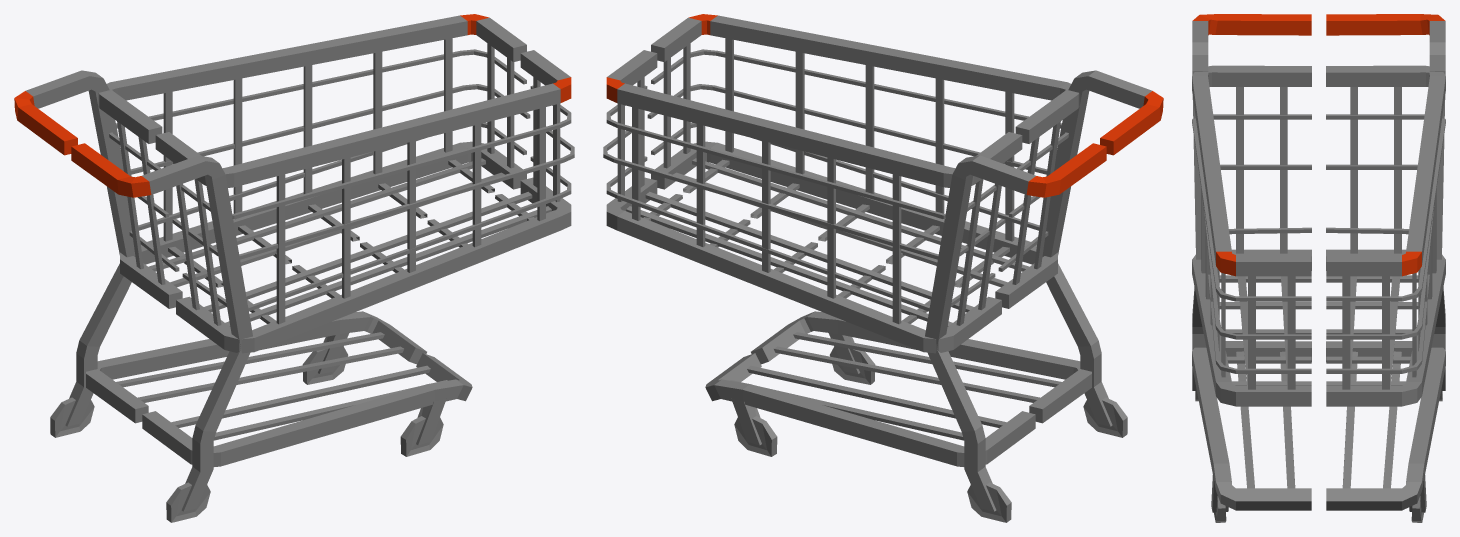
Rendered from Cart_1.fbx.
The picture shows the model from 3 angles, left to right: view 1: azimuth 30°, elevation 25°; view 2: azimuth 150°, elevation 25°; view 3: azimuth 270°, elevation 25°; orthographic projection. The views are drawn at different scales.
Visible parts, largest first — view 1: Cube.001; view 2: Cube.001; view 3: Cube.001.
Boxes of the visible parts, box(x1,y1,x2,y2) form: Cube.001: box(14, 14, 574, 522); Cube.001: box(603, 14, 1163, 522); Cube.001: box(1192, 14, 1445, 522).
Bounding box in the file's own units: 1379 × 1003 × 636.
